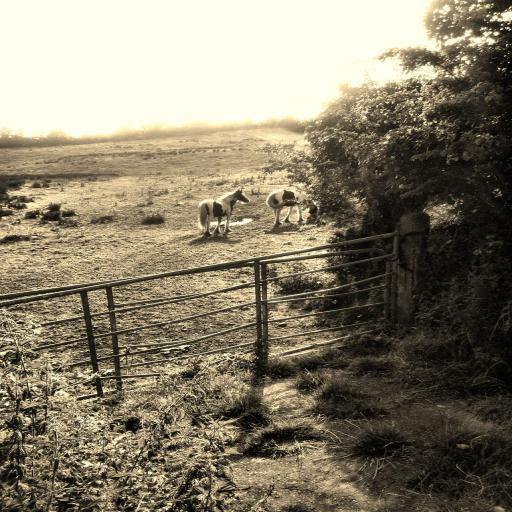horse: (196, 186, 250, 238), (268, 187, 310, 227)
